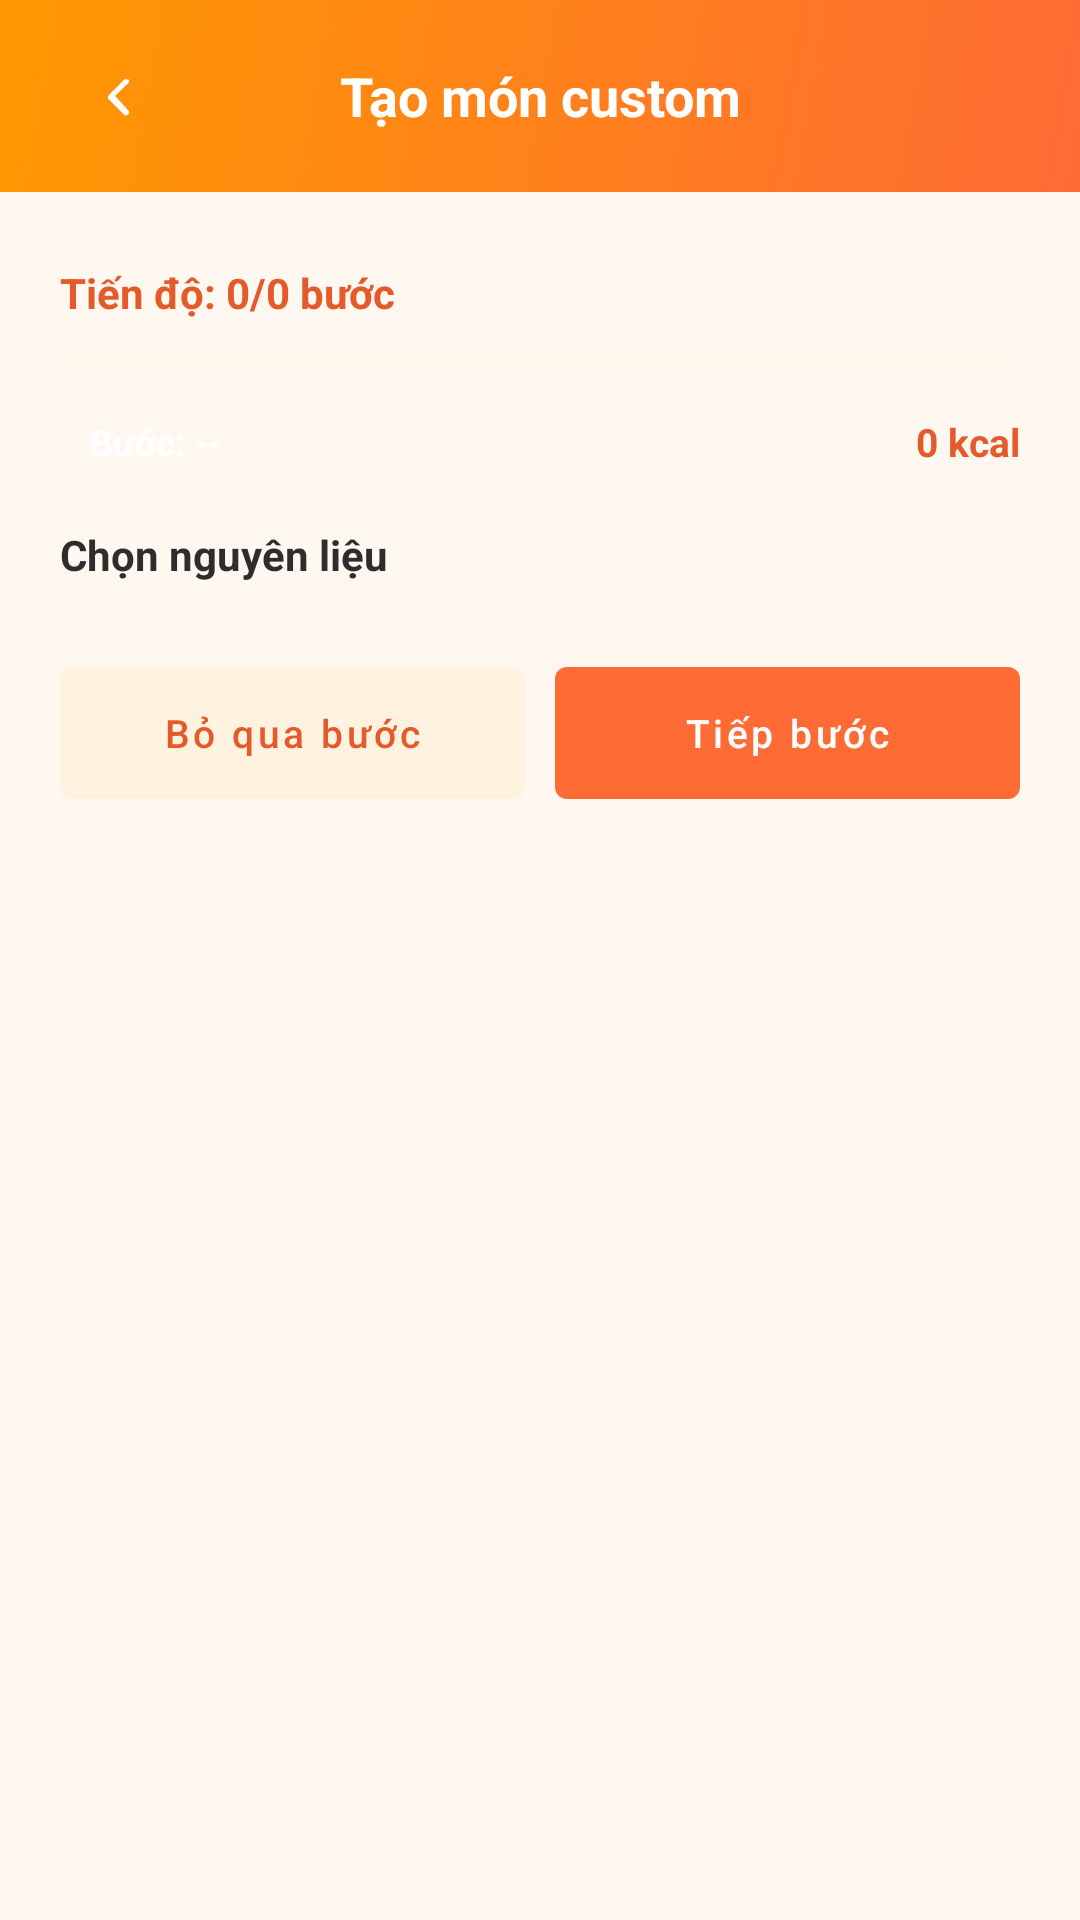

Named icons in this screenshot (1080px×1920px) and their centers, (x,y):
Quay lại: (118,97)
